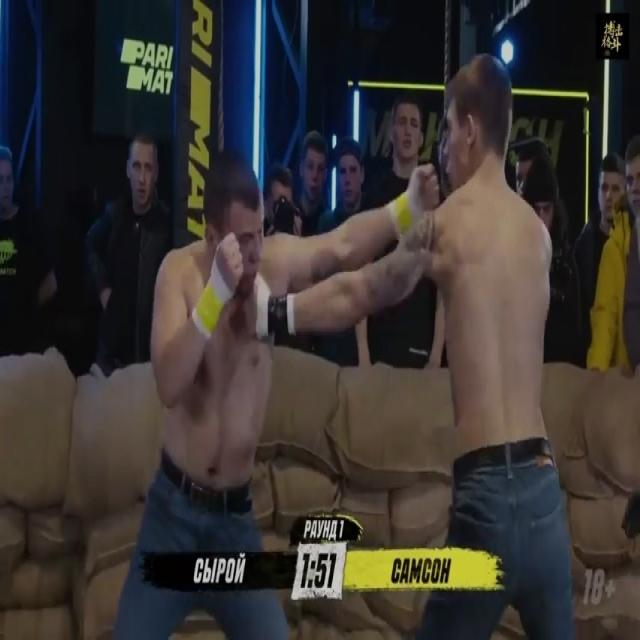fight: (103, 40, 582, 639)
